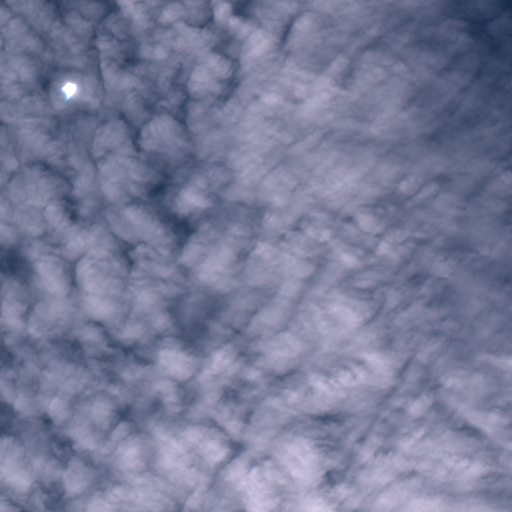Iceberg: (62, 81, 76, 98)
